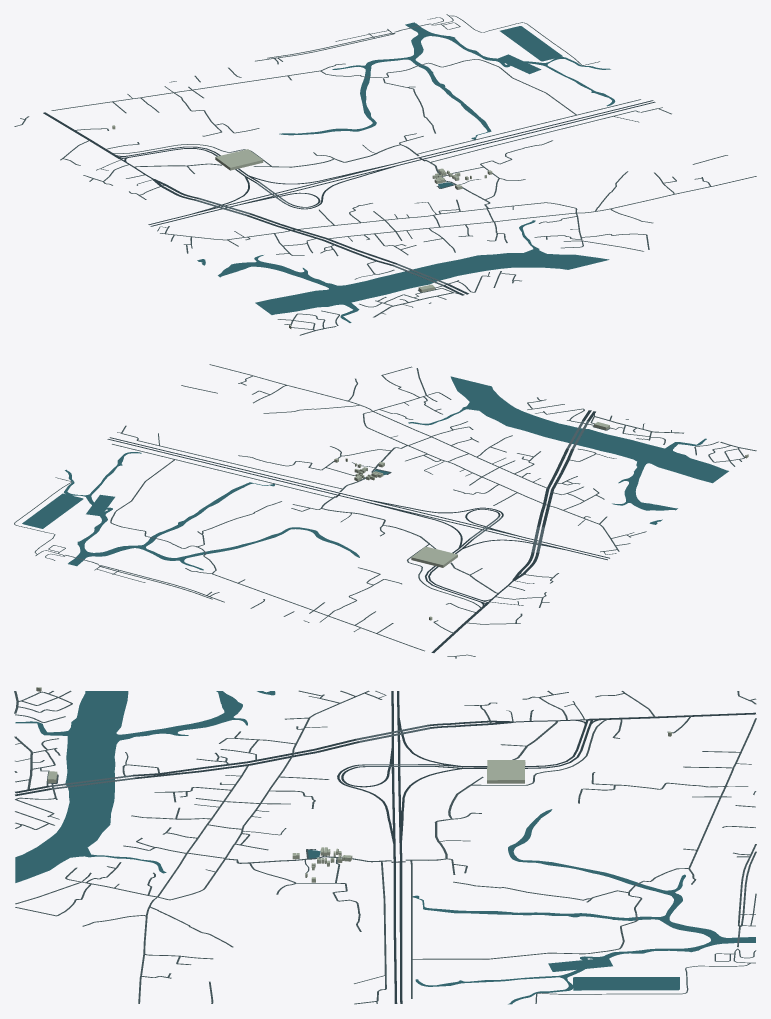
The picture shows the model from 3 angles, top to bottom: view 1: azimuth 30°, elevation 25°; view 2: azimuth 150°, elevation 25°; view 3: azimuth 270°, elevation 25°; orthographic projection. The views are drawn at different scales.
Visible parts, largest first — view 1: water, street, major, building, bridge; view 2: water, street, major, building, bridge; view 3: water, street, major, building, bridge.
Part boxes in pixels (x1=…): water: x1=197, y1=22, x2=615, y2=322; street: x1=14, y1=14, x2=756, y2=335; major: x1=43, y1=100, x2=655, y2=295; building: x1=112, y1=125, x2=492, y2=328; bridge: x1=195, y1=24, x2=447, y2=285; water: x1=22, y1=376, x2=728, y2=570; street: x1=14, y1=364, x2=756, y2=658; major: x1=107, y1=410, x2=609, y2=652; building: x1=334, y1=422, x2=748, y2=620; bridge: x1=68, y1=420, x2=589, y2=562; water: x1=15, y1=691, x2=755, y2=1004; street: x1=14, y1=690, x2=756, y2=1004; major: x1=15, y1=691, x2=755, y2=1003; building: x1=36, y1=687, x2=671, y2=882; bridge: x1=49, y1=724, x2=740, y2=944.
Size of the model in its own units: 2005 by 15.5 by 2006.
